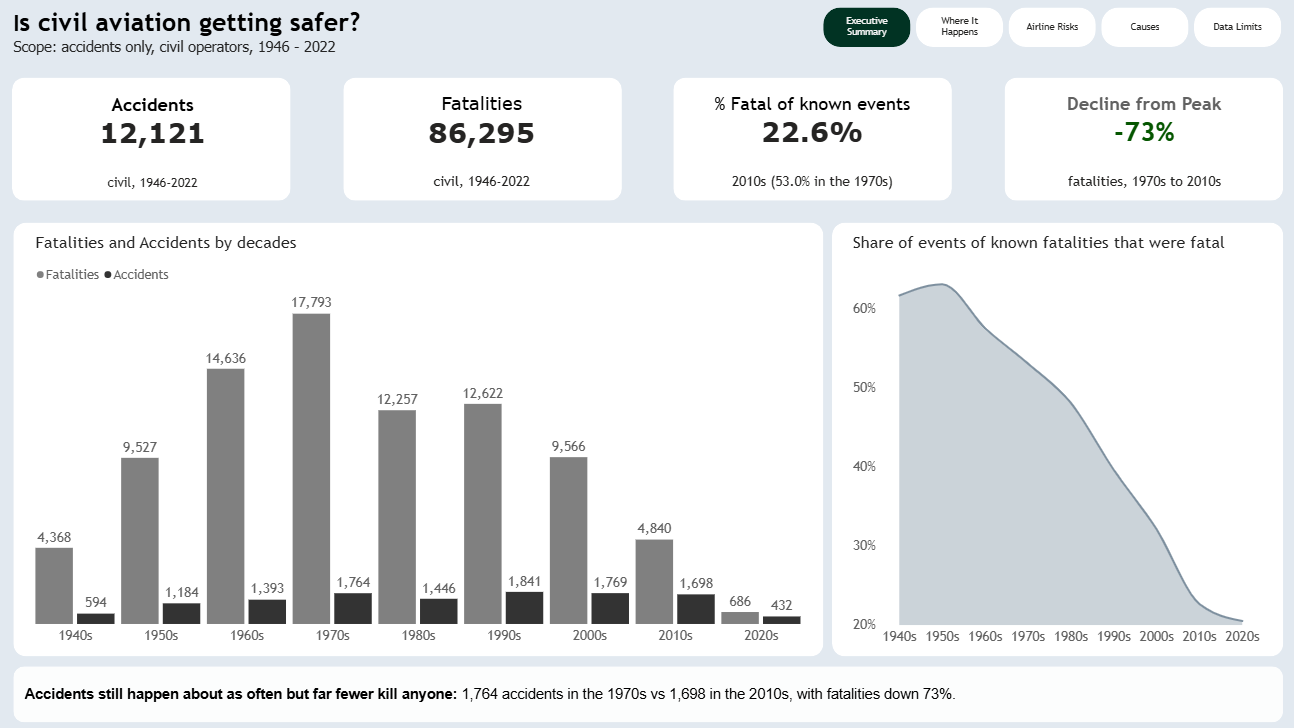

The page's visual inventory and layout, read from the dashboard file:
{"tool":"powerbi","page":{"name":"Executive Summary","canvas":[1920,1080],"ordinal":0},"visuals":[{"type":"shape","box":[29.9,121.9,409,181],"z":0},{"type":"shape","box":[515.2,121.9,409,181],"z":1000},{"type":"shape","box":[1000.5,121.9,409,181],"z":2000},{"type":"shape","box":[1485.7,121.2,409,181],"z":3000},{"type":"shape","box":[1232.4,333,662.3,637],"z":4000},{"type":"shape","box":[30.8,333,1188.9,637],"z":5000},{"type":"textbox","box":[31.2,18.3,542.9,102.7],"z":6000},{"type":"cardVisual","fields":{"Data":["Dax Measures.Fatalities"]},"box":[530.1,121.1,377.9,181.6],"z":9000},{"type":"cardVisual","fields":{"Data":["Dax Measures.% Fatal of Known 2010s"]},"box":[1014.3,121.1,379.7,181.6],"z":10000},{"type":"cardVisual","fields":{"Data":["Dax Measures.Decline from Peak"]},"box":[1500.4,121.1,381.5,181.6],"z":11000},{"type":"clusteredColumnChart","title":"Fatalities and Accidents by decades","fields":{"Category":["dw accidents.Decade lable"],"Y":["Dax Measures.Fatalities","Dax Measures.Accidents"]},"box":[47.7,333.8,1155.6,638],"z":12000},{"type":"areaChart","title":"Share of events of known fatalities that were fatal","fields":{"Category":["dw accidents.Decade lable"],"Y":["Dax Measures.% Fatal of Known"]},"box":[1247.3,333.8,634.7,638.3],"z":13000},{"type":"pageNavigator","box":[1219.8,18.3,675,58.7],"z":14000},{"type":"shape","box":[31.2,985,1863.6,82.5],"z":15000},{"type":"textbox","box":[47.7,1008.8,1814.1,58.7],"z":16000},{"type":"cardVisual","fields":{"Data":["Dax Measures.Accidents"]},"box":[47.7,122.9,376,181.6],"z":16001}]}

Visuals, with their boxes in screenshot pixels (x1, y1, x2, y2), scaled from the page's 1920x1080 canvas onto the 1294x728 screenshot:
shape: l=20, t=82, r=296, b=204
shape: l=347, t=82, r=623, b=204
shape: l=674, t=82, r=950, b=204
shape: l=1001, t=82, r=1277, b=204
shape: l=831, t=224, r=1277, b=654
shape: l=21, t=224, r=822, b=654
textbox: l=21, t=12, r=387, b=82
cardVisual - Dax Measures.Fatalities: l=357, t=82, r=612, b=204
cardVisual - Dax Measures.% Fatal of Known 2010s: l=684, t=82, r=939, b=204
cardVisual - Dax Measures.Decline from Peak: l=1011, t=82, r=1268, b=204
"Fatalities and Accidents by decades" clusteredColumnChart: l=32, t=225, r=811, b=655
"Share of events of known fatalities that were fatal" areaChart: l=841, t=225, r=1268, b=655
pageNavigator: l=822, t=12, r=1277, b=52
shape: l=21, t=664, r=1277, b=720
textbox: l=32, t=680, r=1255, b=720
cardVisual - Dax Measures.Accidents: l=32, t=83, r=286, b=205
